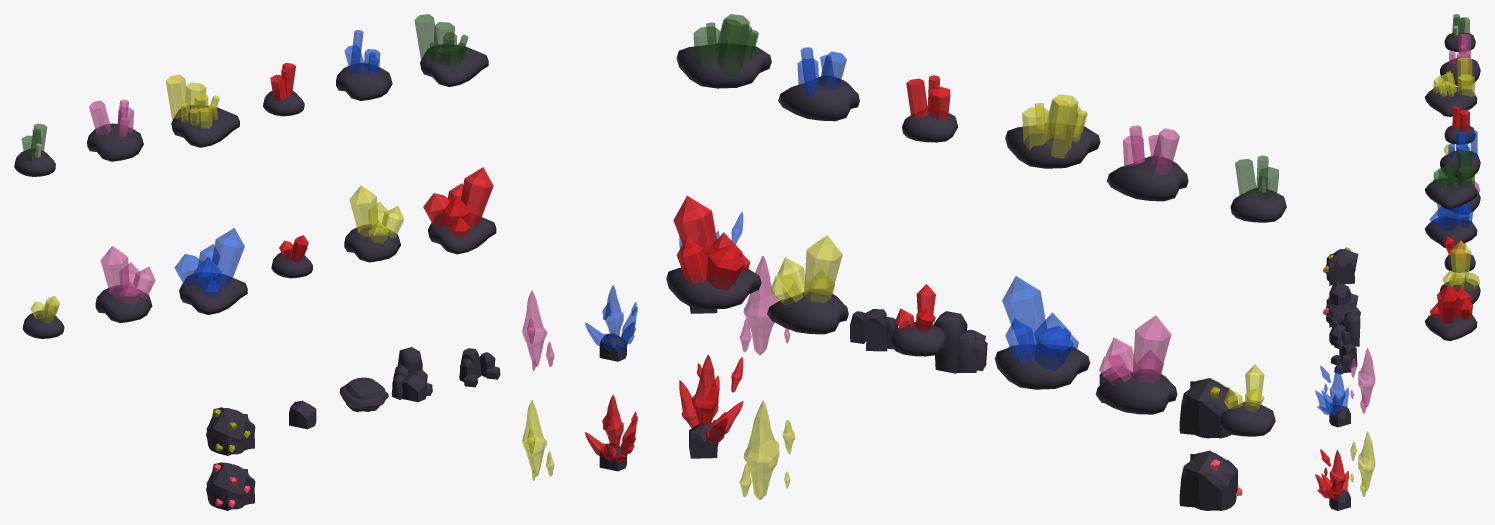
The model's file is stones_ore.fbx.
3 views of the same model, side by side, from view 1: azimuth 30°, elevation 25°; view 2: azimuth 150°, elevation 25°; view 3: azimuth 270°, elevation 25° (orthographic). The views are drawn at different scales.
Visible parts, largest first — view 1: ore.002, ore.099, ore.079, stone.010, stone.003, ore.022, stone.001, ore.003, ore.078, ore.021, ore.098, ore.108 (+15 smaller); view 2: ore.002, ore.099, ore.079, stone.010, ore.022, ore.078, ore.098, ore.021, ore.003, stone.003, stone.001, ore.108 (+30 smaller); view 3: ore.002, ore.079, ore.099, ore.022, stone.003, stone.001, ore.031, ore.064, ore.044, ore.003, ore.030, ore.078 (+29 smaller).
Part boxes in pixels (bbox=[...]): ore.002: bbox=[420, 44, 488, 86]; ore.099: bbox=[179, 273, 247, 314]; ore.079: bbox=[171, 105, 239, 147]; stone.010: bbox=[206, 462, 255, 510]; stone.003: bbox=[206, 407, 255, 455]; ore.022: bbox=[428, 215, 496, 254]; stone.001: bbox=[391, 347, 432, 402]; ore.003: bbox=[336, 63, 392, 100]; ore.078: bbox=[87, 123, 143, 161]; ore.021: bbox=[344, 224, 400, 262]; ore.098: bbox=[95, 285, 152, 323]; ore.108: bbox=[209, 228, 244, 287]; ore.002: bbox=[676, 44, 771, 88]; ore.099: bbox=[995, 345, 1089, 389]; ore.079: bbox=[1005, 124, 1100, 168]; stone.010: bbox=[1179, 450, 1237, 510]; ore.022: bbox=[666, 265, 761, 309]; ore.078: bbox=[1107, 156, 1188, 201]; ore.098: bbox=[1095, 370, 1177, 414]; ore.021: bbox=[767, 289, 848, 334]; ore.003: bbox=[778, 76, 859, 121]; stone.003: bbox=[1179, 378, 1237, 438]; stone.001: bbox=[933, 311, 987, 373]; ore.108: bbox=[1002, 276, 1046, 348]; ore.002: bbox=[1424, 179, 1477, 209]; ore.079: bbox=[1424, 86, 1477, 116]; ore.099: bbox=[1425, 218, 1477, 247]; ore.022: bbox=[1424, 312, 1477, 340]; stone.003: bbox=[1326, 249, 1358, 285]; stone.001: bbox=[1329, 312, 1360, 348]; ore.031: bbox=[1437, 286, 1459, 323]; ore.064: bbox=[1358, 431, 1375, 490]; ore.044: bbox=[1358, 348, 1375, 406]; ore.003: bbox=[1440, 151, 1480, 178]; ore.030: bbox=[1450, 240, 1471, 279]; ore.078: bbox=[1440, 58, 1480, 85].
Bounding box in the file's own units: 993 × 2841 × 2145.
